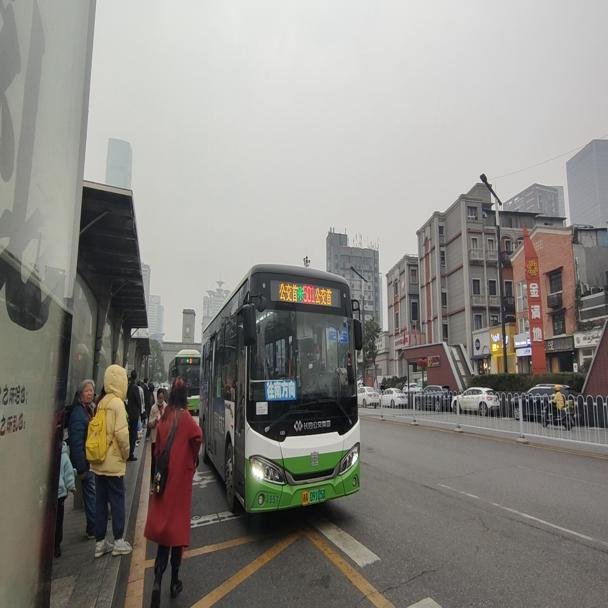bus: (200, 263, 362, 520), (168, 349, 200, 416)
screen: (301, 279, 314, 306)
